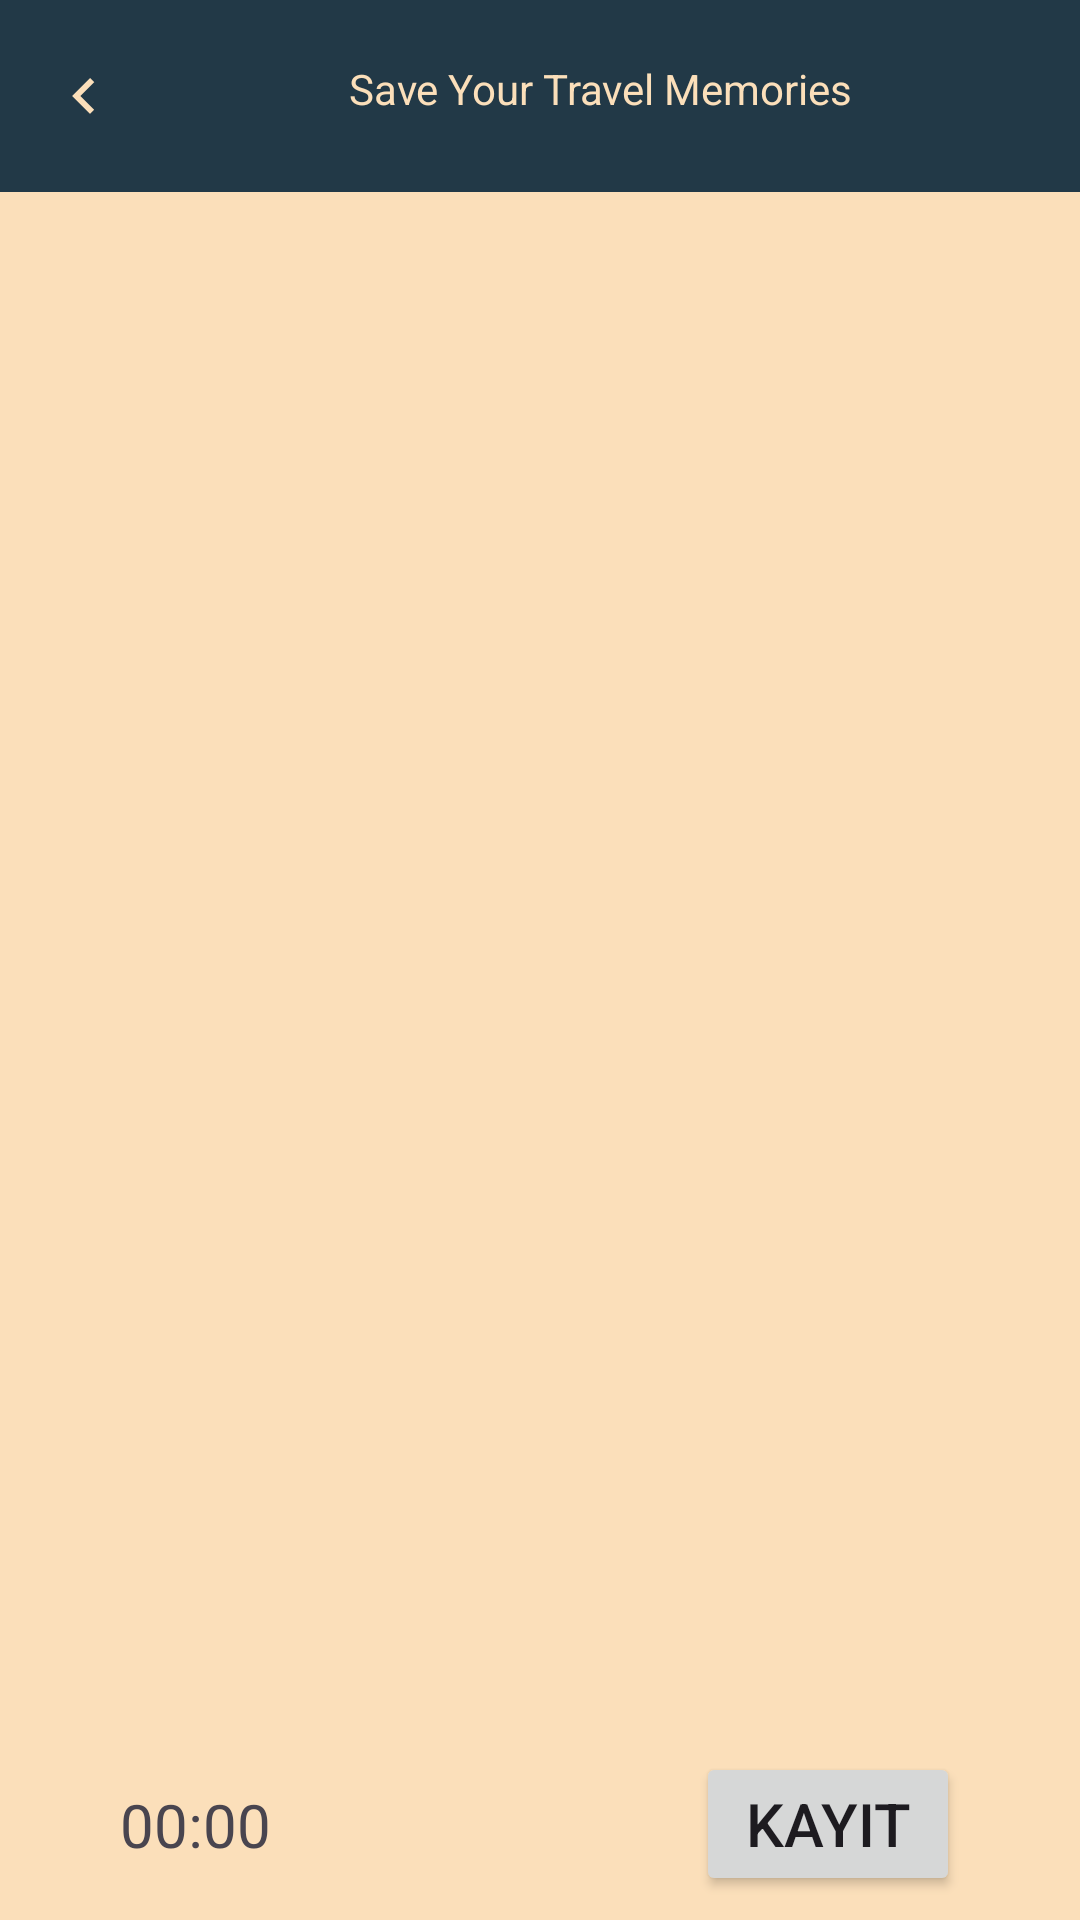

Icons on this 1080 x 1920 Android screen, each with its box as bbox=[x1, y1, x2, y2]:
keyboard arrow left: bbox=[72, 78, 94, 114]
